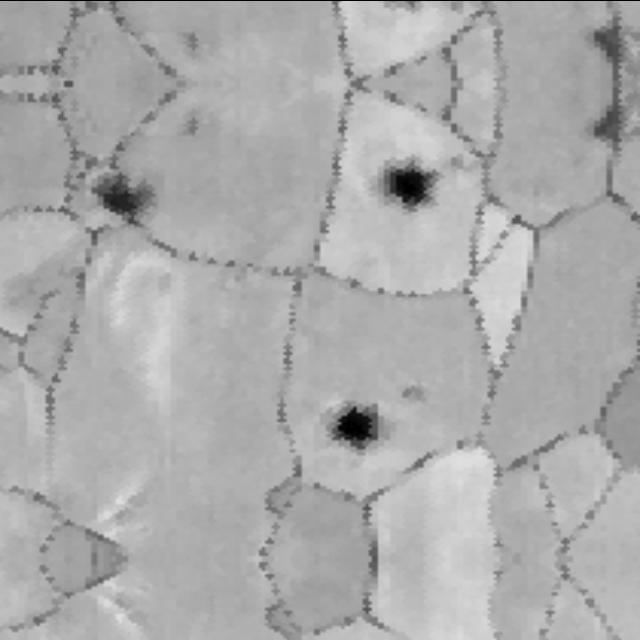good_void: (376, 152, 443, 223), (312, 396, 380, 465), (95, 169, 155, 226), (586, 101, 628, 164), (586, 0, 628, 63), (391, 373, 427, 406), (173, 109, 204, 142), (173, 22, 204, 55), (442, 143, 471, 173), (443, 0, 470, 21)
